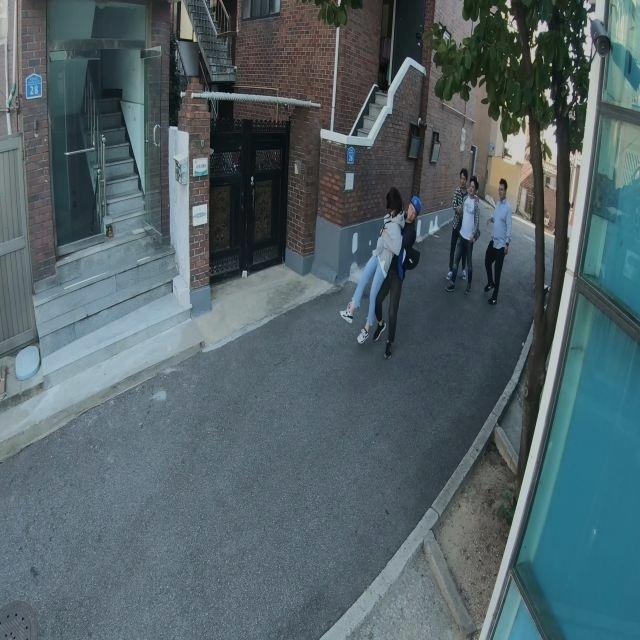fight: (340, 187, 420, 357)
non-fight: (448, 172, 480, 292), (485, 177, 513, 304)
